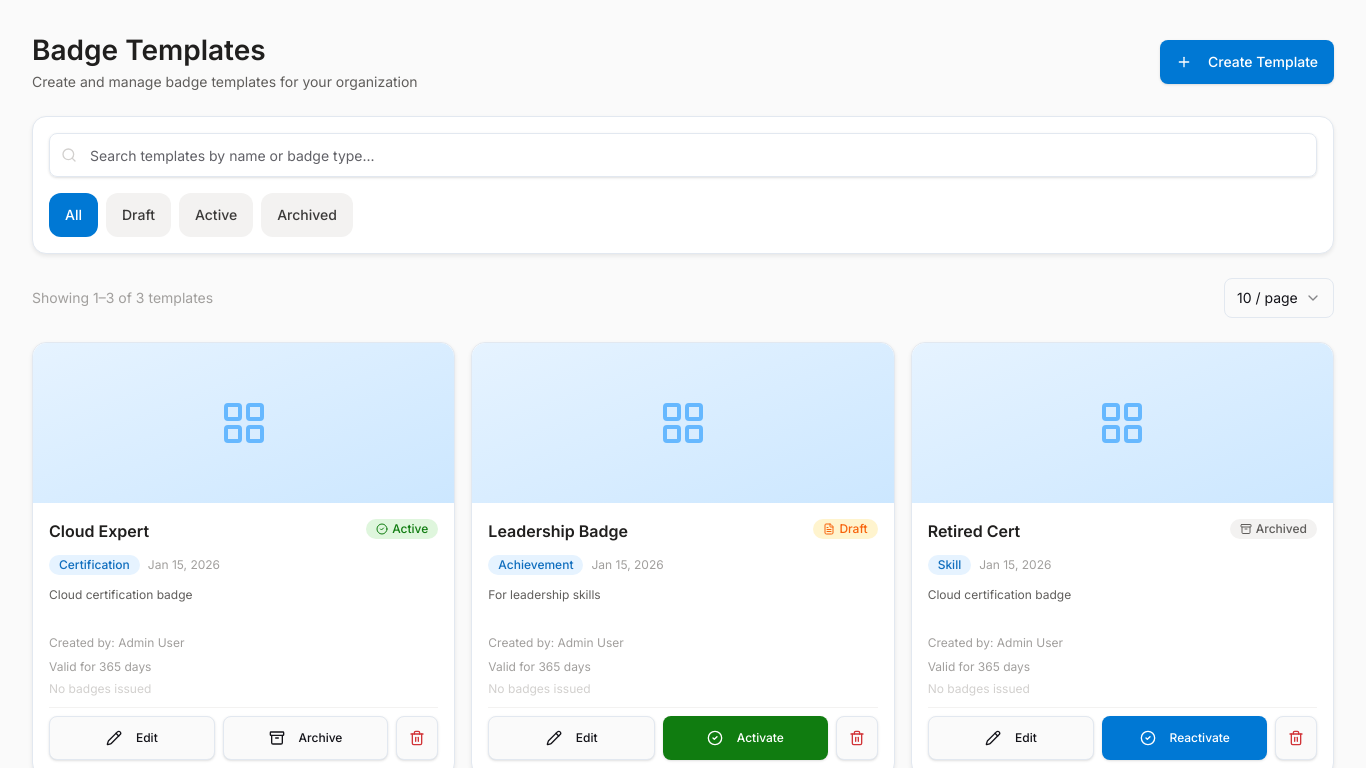
Test: BadgeTemplateListPage › delete › does not delete when user cancels confirmation dialog
Expected: the heading "Cloud Expert" is shown, top-left (49, 519), bottom-right (149, 543)
Click the button without text below "Cloud Expert": [417, 738] box top-left (396, 716), bottom-right (438, 760)
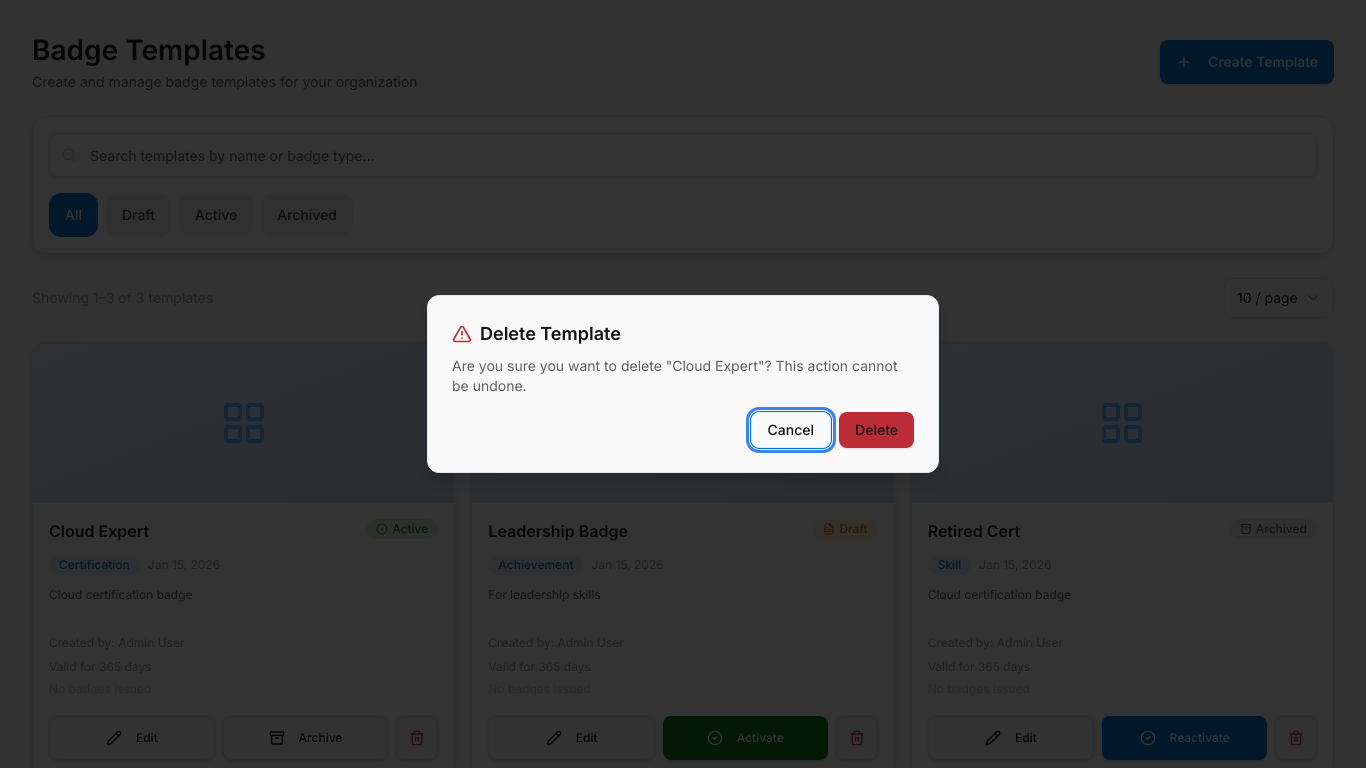
Expected: the heading "Delete Template" is shown, top-left (452, 323), bottom-right (621, 344)
// Click Cancel
Click the button "Cancel": [791, 430] box top-left (751, 412), bottom-right (831, 448)
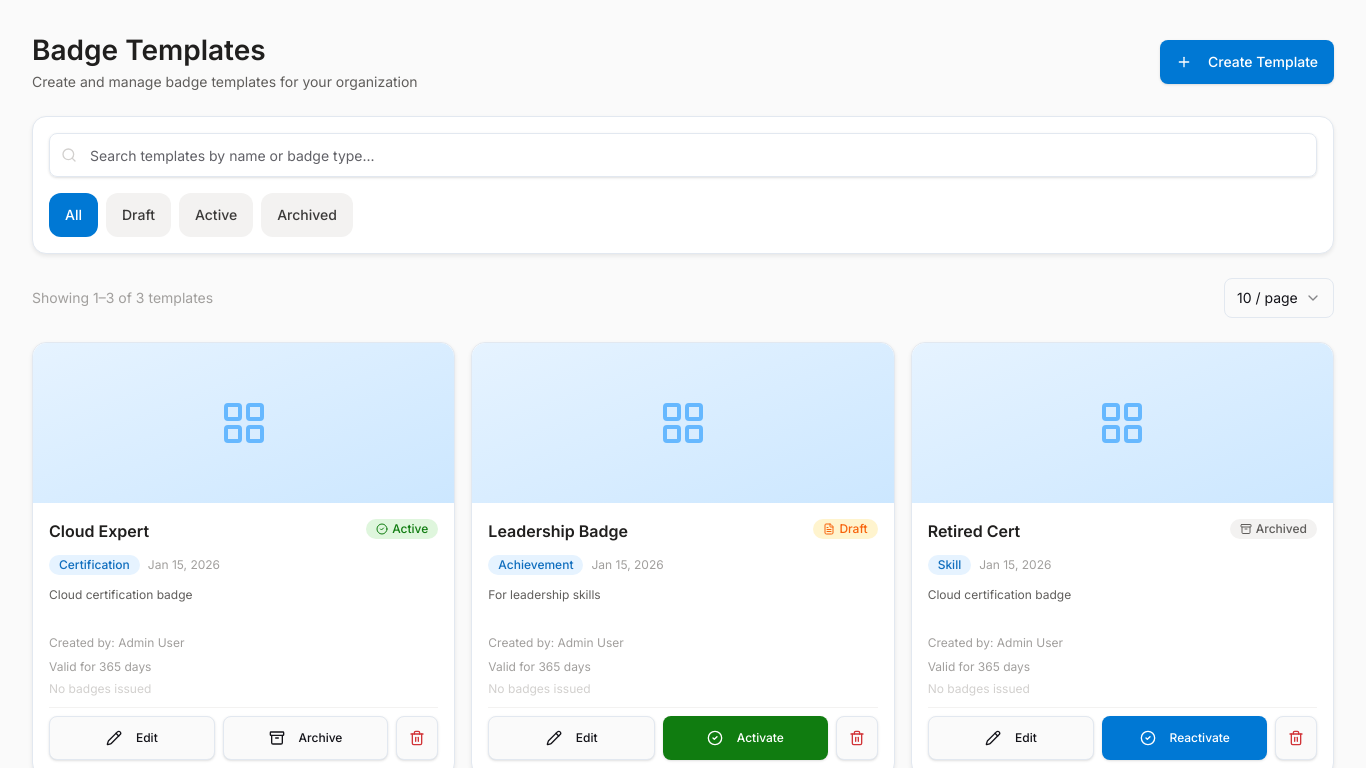
Expected: the heading "Delete Template" is gone
